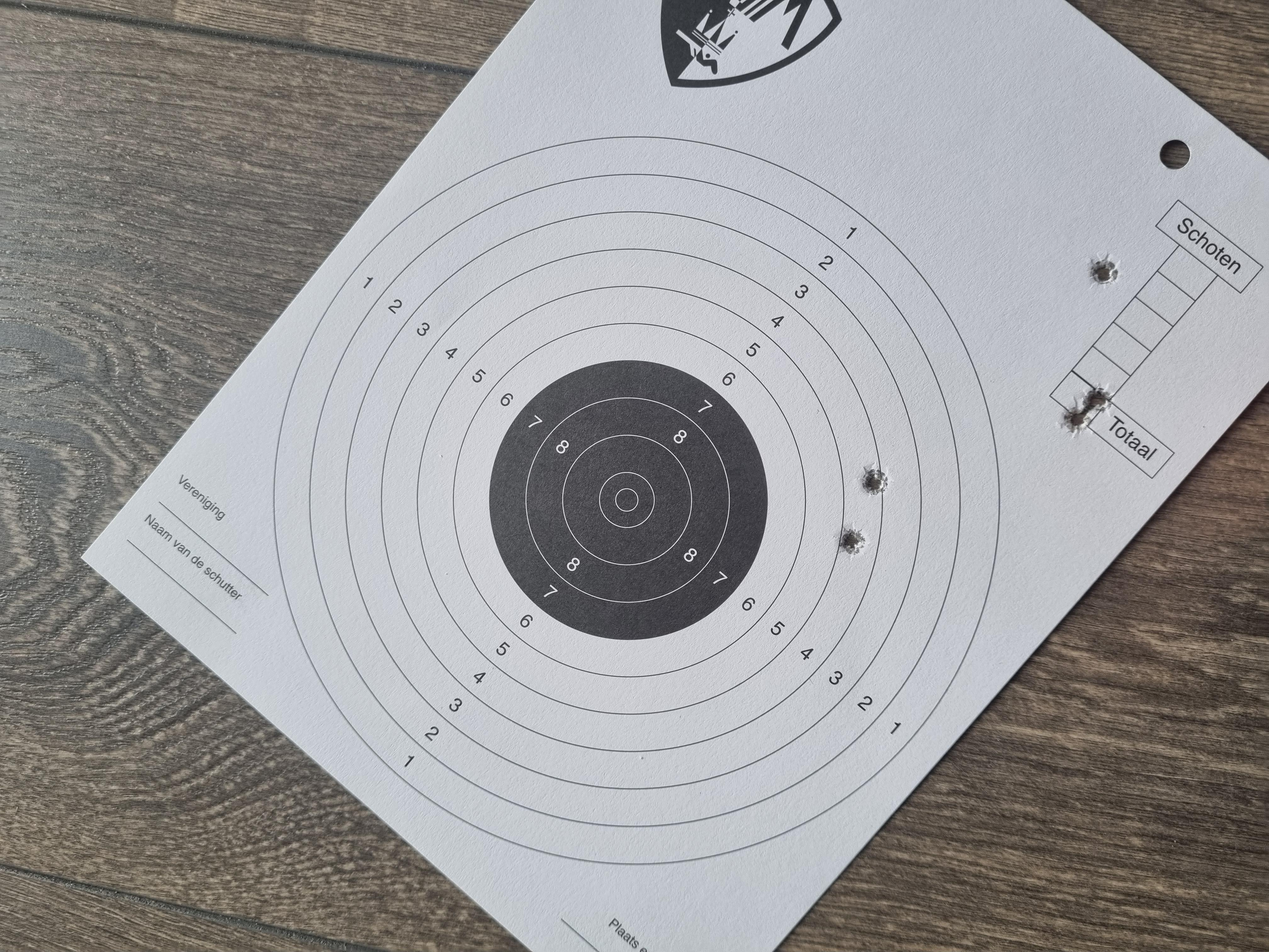hole: (887, 816, 932, 843), (687, 790, 726, 821), (607, 644, 653, 667), (715, 808, 751, 837), (526, 626, 565, 652)
